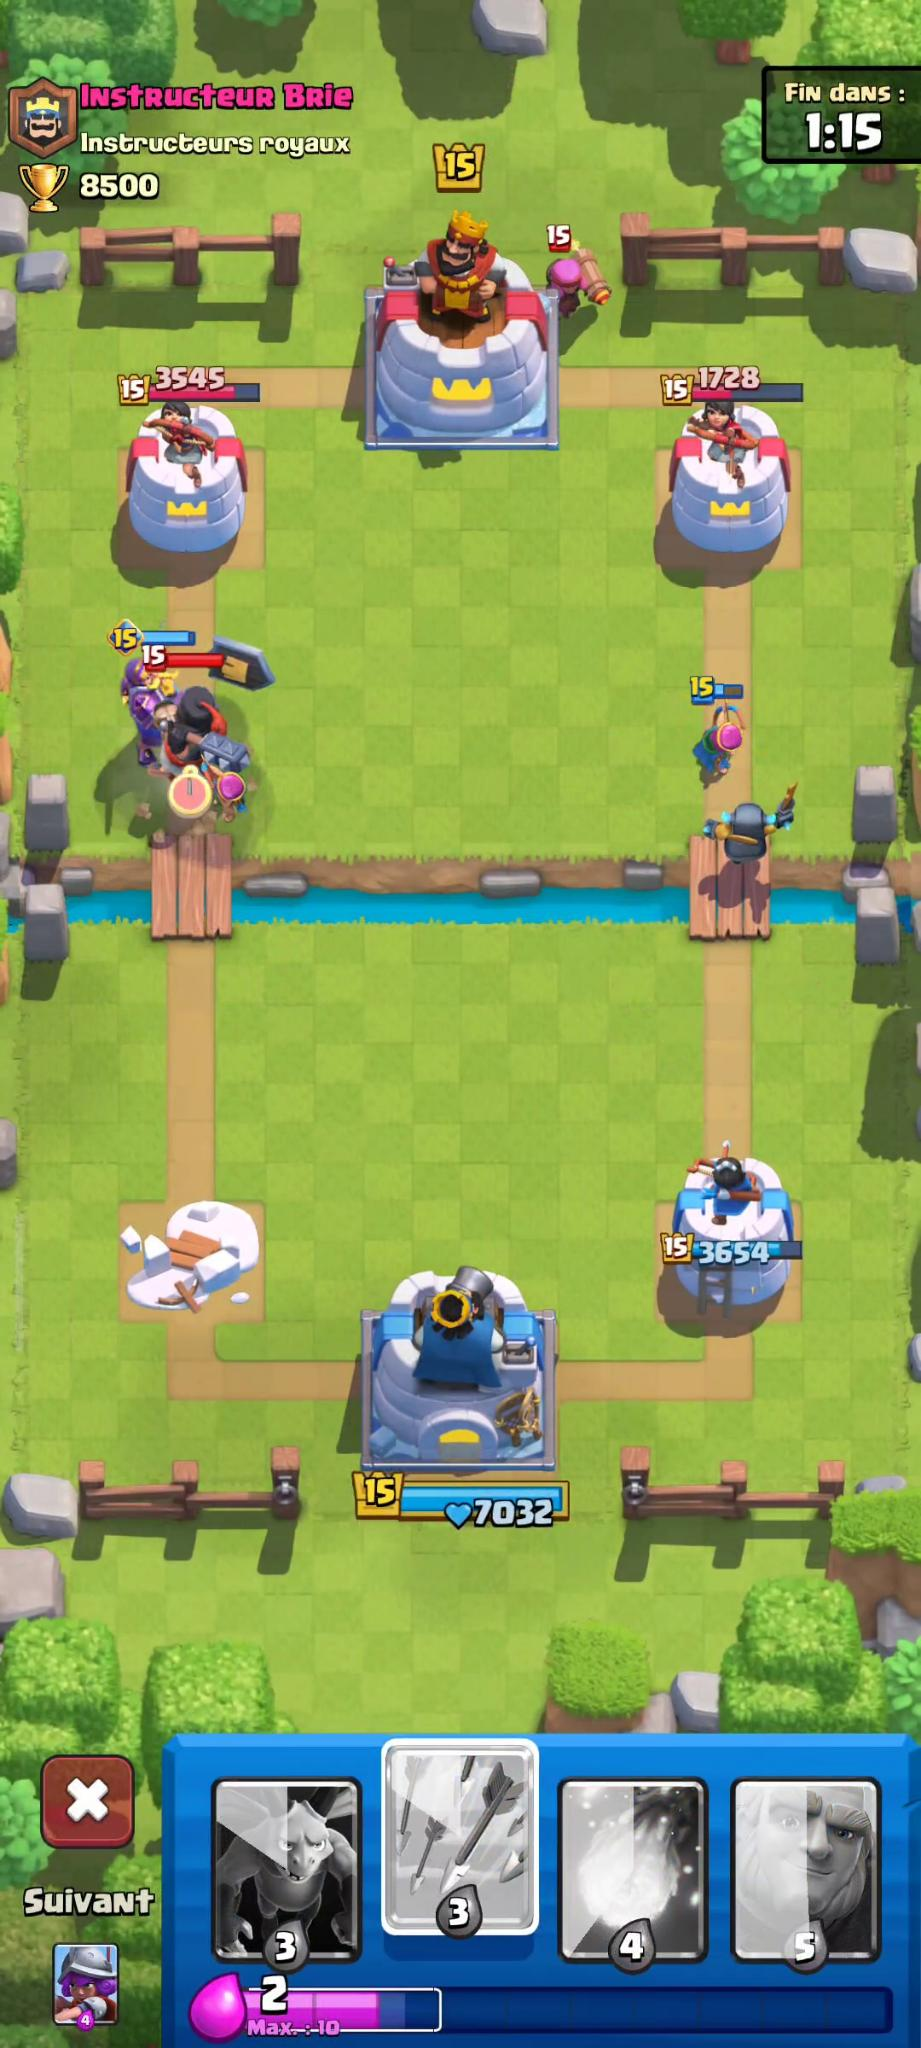archere: (670, 660, 759, 795), (213, 767, 251, 820)
chevalier: (105, 623, 187, 778)
mini_PEKKA: (695, 780, 818, 883)
